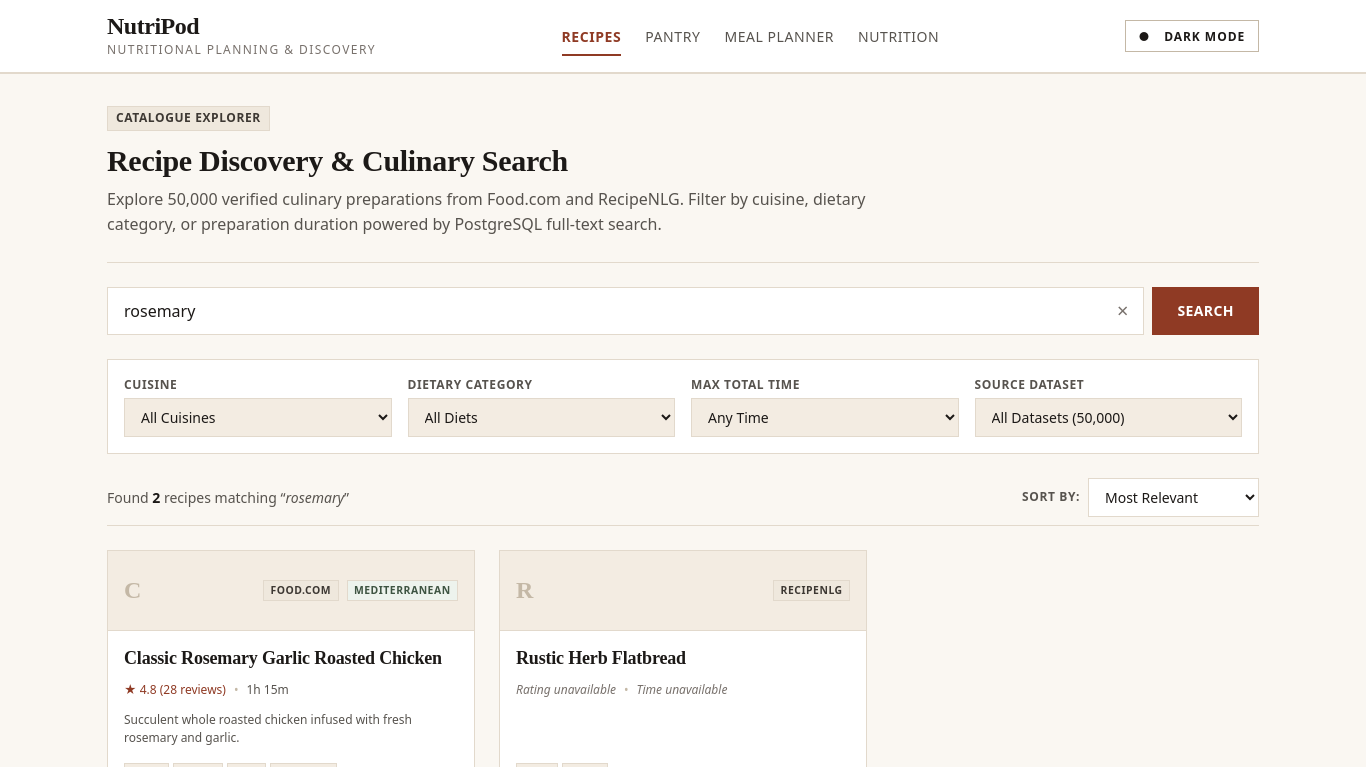
Test: Recipe Discovery, Search, Filtering & Sorting (Step 05.2) › 4. clears search query and refreshes results
The image size is (1366, 767).
Expected: the link "Classic Rosemary Garlic Roasted Chicken" is shown, [124, 648, 442, 668]
Click the button named "clear search query" at (1123, 311), box [1113, 297, 1132, 325]
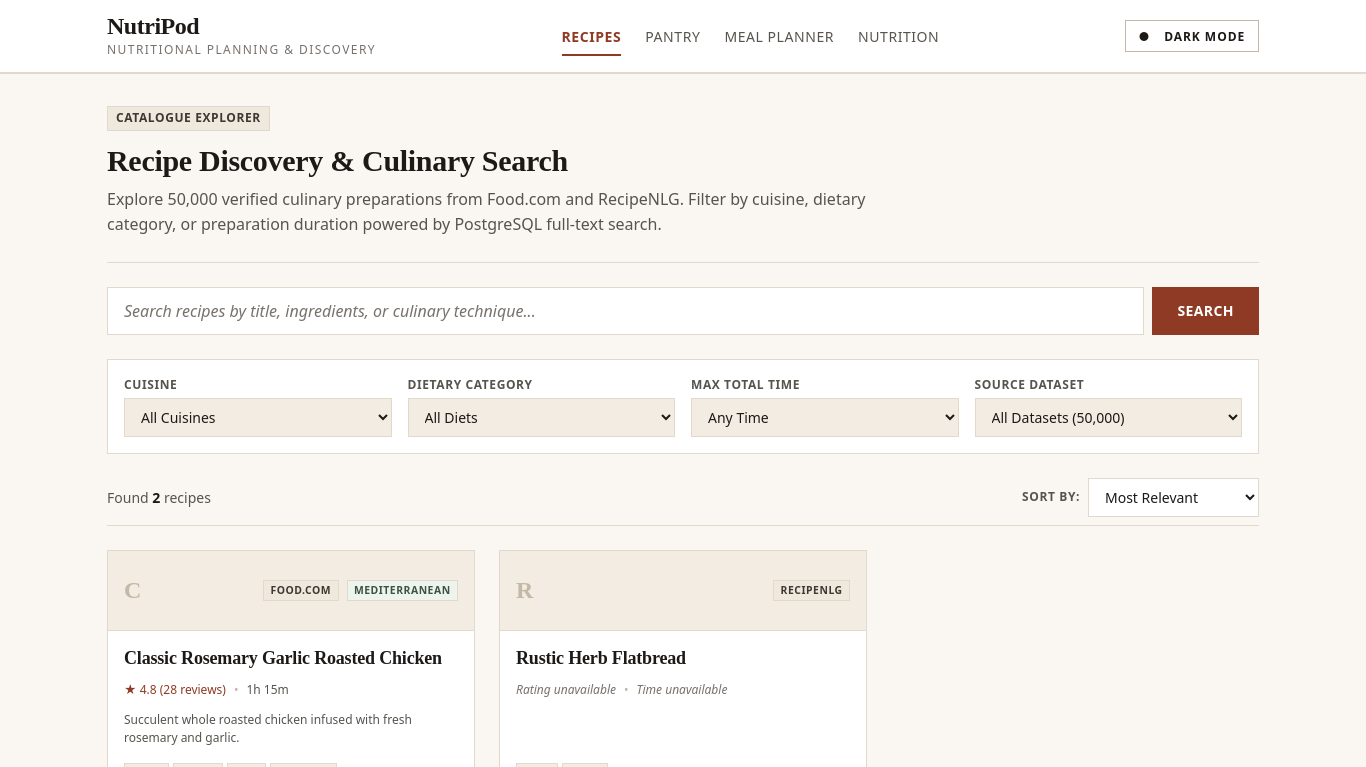
Result: the search field labelled "Search recipes" is empty at [107, 287, 1144, 335]
